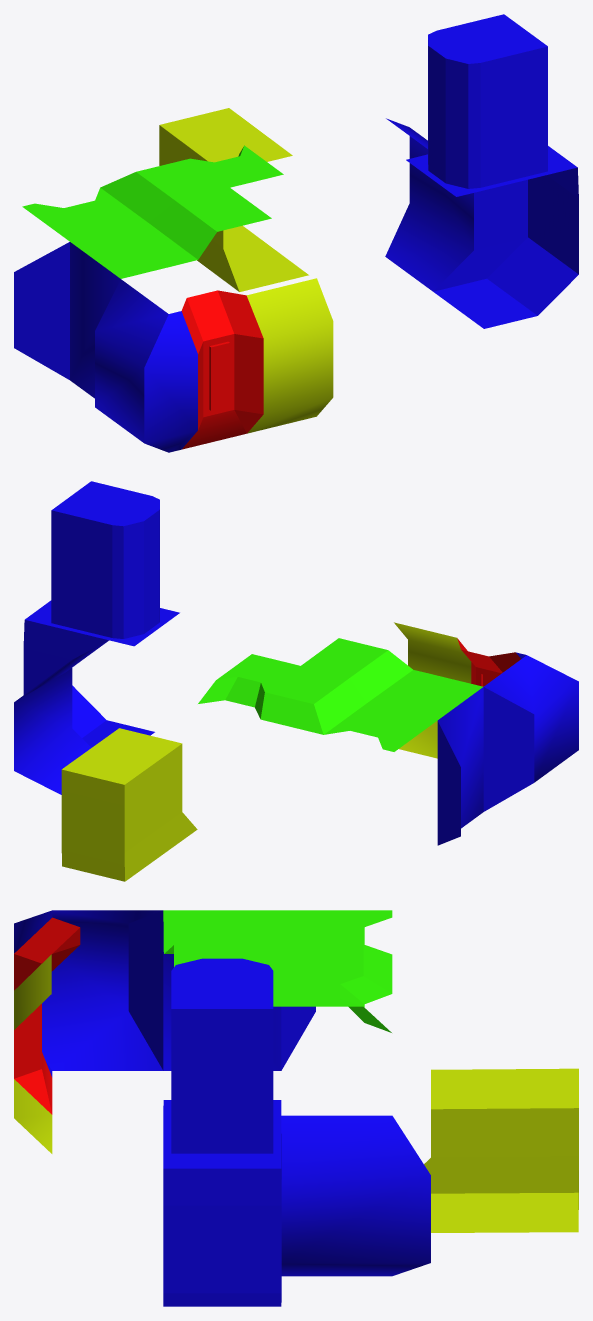
File: show room all test3.FBX
The picture shows the model from 3 angles, top to bottom: view 1: azimuth 30°, elevation 25°; view 2: azimuth 150°, elevation 25°; view 3: azimuth 270°, elevation 25°; orthographic projection. The views are drawn at different scales.
Parts seen in each view (by area): view 1: Object025; view 2: Object025; view 3: Object025.
Boxes of the visible parts, x1,y1,x2,y2 form: Object025: [14, 14, 578, 452]; Object025: [14, 481, 578, 881]; Object025: [14, 910, 578, 1306].
Size of the model in its own units: 20.13 by 10.16 by 17.04.
